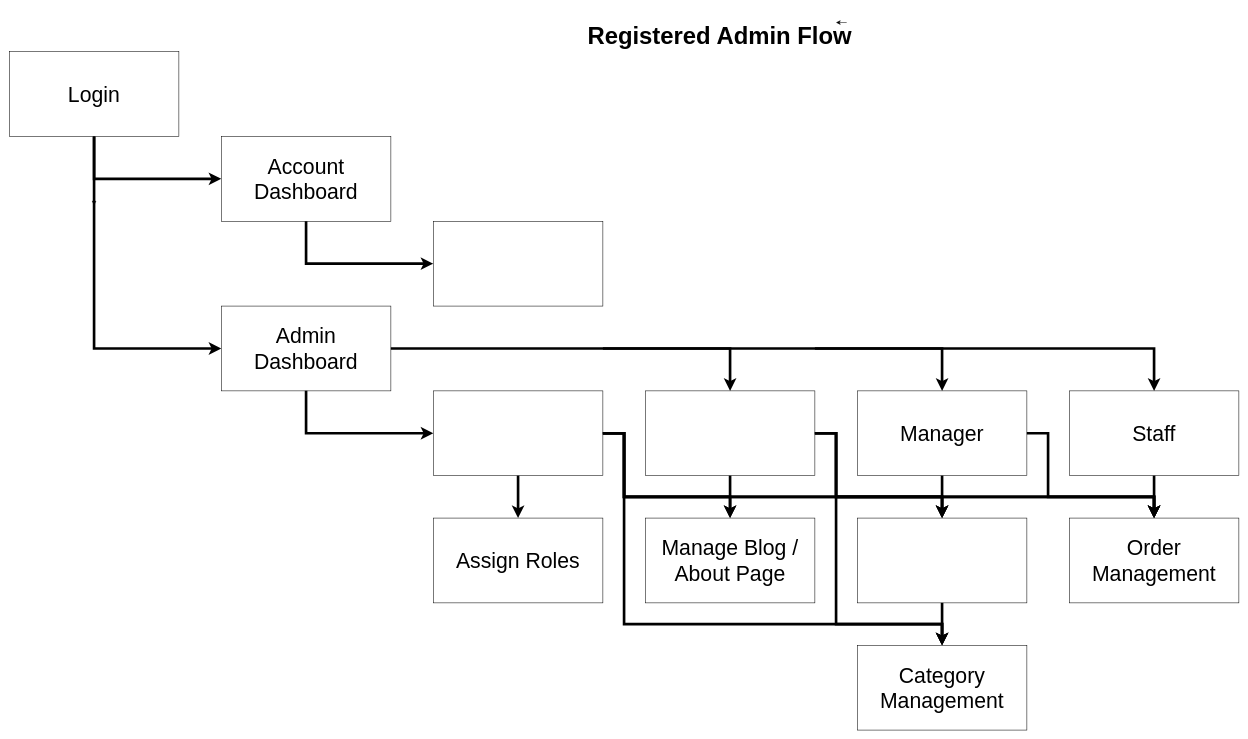
This 1248x739 diagram has some shape labels left out. Here are the shapes that lost their labels. From the top down, the box of each, then its label:
(433, 221, 603, 306): Registered Customer Flow
(433, 390, 603, 476): Owner
(645, 390, 815, 476): Superuser
(857, 518, 1027, 603): Product Management
